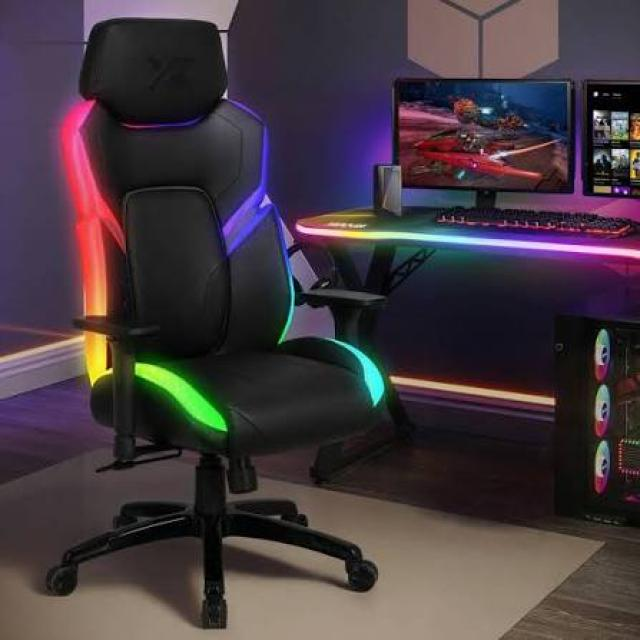Chair: (27, 11, 414, 634)
